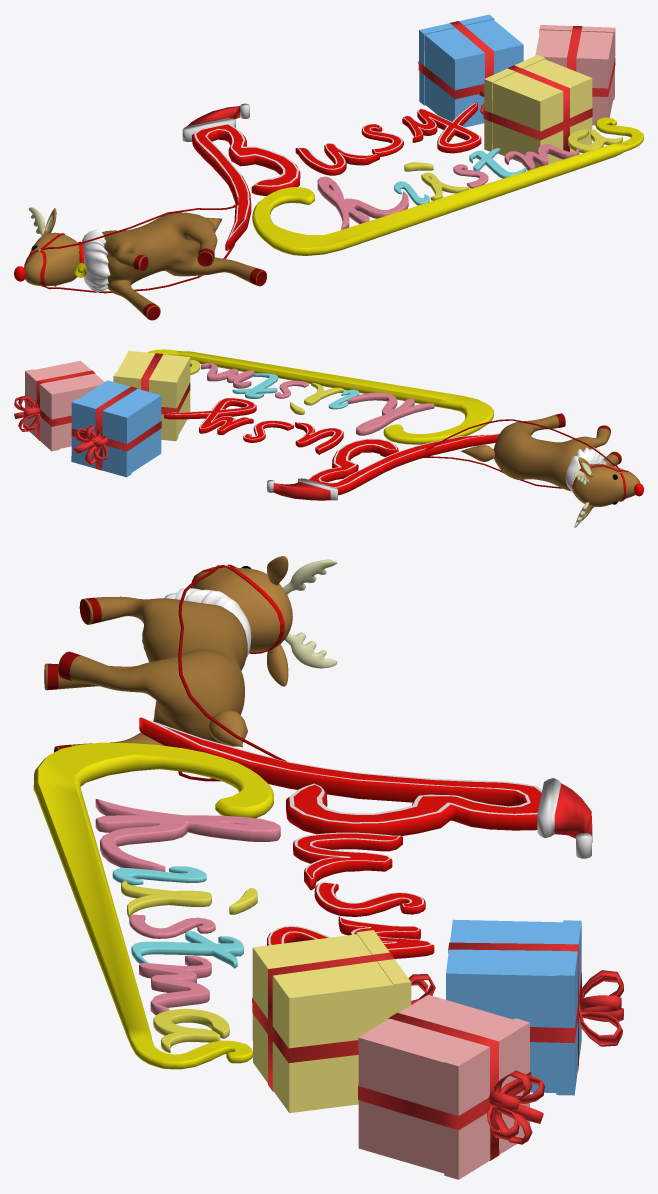
Rendered from title10190225last edition.fbx.
3 views of the same model, one above another, from view 1: azimuth 30°, elevation 25°; view 2: azimuth 150°, elevation 25°; view 3: azimuth 270°, elevation 25° (orthographic). The views are drawn at different scales.
Visible parts, largest first — view 1: 平面, pCube18, Cube.001, Cube, Cube.002, 平面.001, 平面.002, 平面.004, 平面.003; view 2: 平面, pCube18, Cube, Cube.002, Cube.001, 平面.002, 平面.003, 平面.004, 平面.001; view 3: 平面, pCube18, Cube.002, Cube.001, Cube, 平面.003, 平面.002, 平面.001, 平面.004.
Boxes of the visible parts, bbox=[...] form: 平面: bbox=[192, 102, 643, 255]; pCube18: bbox=[14, 196, 266, 320]; Cube.001: bbox=[484, 55, 592, 168]; Cube: bbox=[419, 14, 523, 127]; Cube.002: bbox=[535, 25, 615, 125]; 平面.001: bbox=[479, 65, 592, 151]; 平面.002: bbox=[418, 21, 493, 99]; 平面.004: bbox=[182, 103, 249, 141]; 平面.003: bbox=[567, 26, 615, 96]; 平面: bbox=[147, 349, 499, 495]; pCube18: bbox=[423, 413, 643, 527]; Cube: bbox=[71, 380, 161, 477]; Cube.002: bbox=[25, 360, 104, 451]; Cube.001: bbox=[113, 351, 190, 441]; 平面.002: bbox=[71, 386, 161, 470]; 平面.003: bbox=[14, 370, 95, 440]; 平面.004: bbox=[267, 478, 337, 500]; 平面.001: bbox=[141, 353, 190, 414]; 平面: bbox=[33, 717, 542, 1069]; pCube18: bbox=[44, 556, 337, 781]; Cube.002: bbox=[358, 994, 529, 1179]; Cube.001: bbox=[252, 930, 411, 1113]; Cube: bbox=[446, 919, 581, 1095]; 平面.003: bbox=[358, 1012, 544, 1160]; 平面.002: bbox=[448, 942, 623, 1071]; 平面.001: bbox=[252, 952, 437, 1091]; 平面.004: bbox=[537, 778, 592, 858].
Bounding box in the file's own units: 3.71 × 0.4286 × 1.69.
